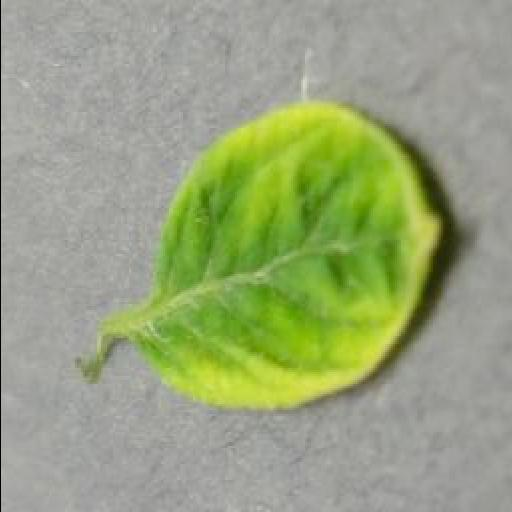disease_tomato: (134, 101, 444, 411)
